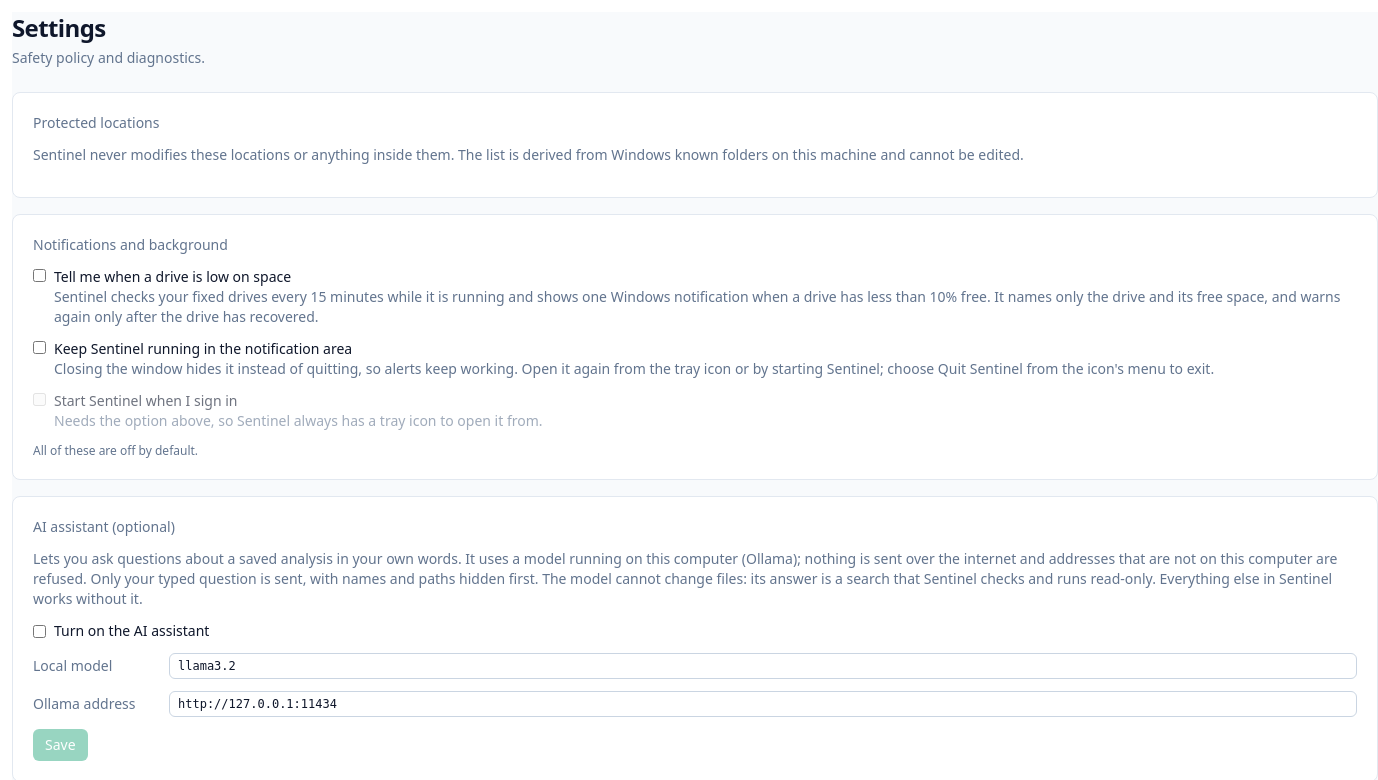
AI settings in Settings › saves a change and shows a refusal for a non-local address
Expected: the button "Save" is disabled, [33,729,88,761]
Click the checkbox labelled "Turn on the AI assistant" at x=40, y=631, box [33,624,46,638]
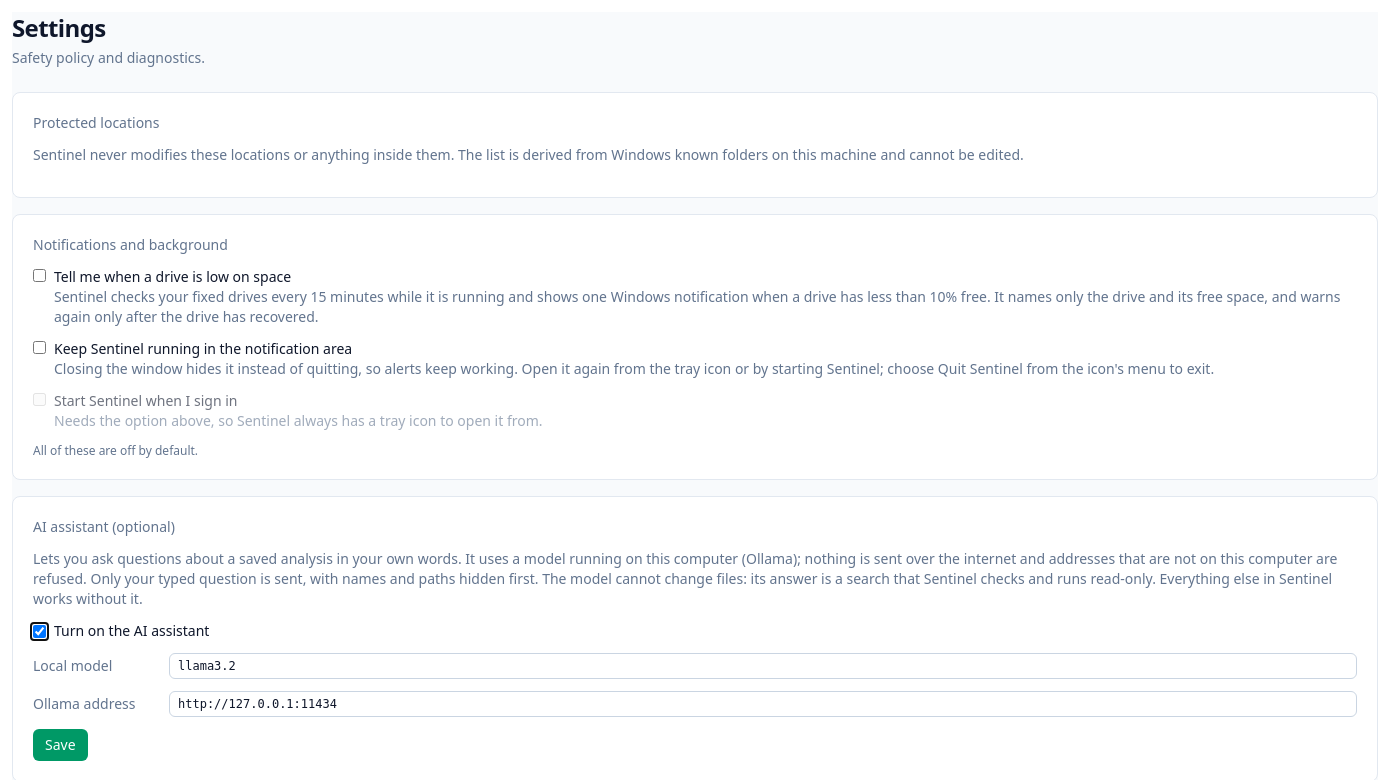
Click the button "Save" at x=60, y=745, box [33,729,88,761]
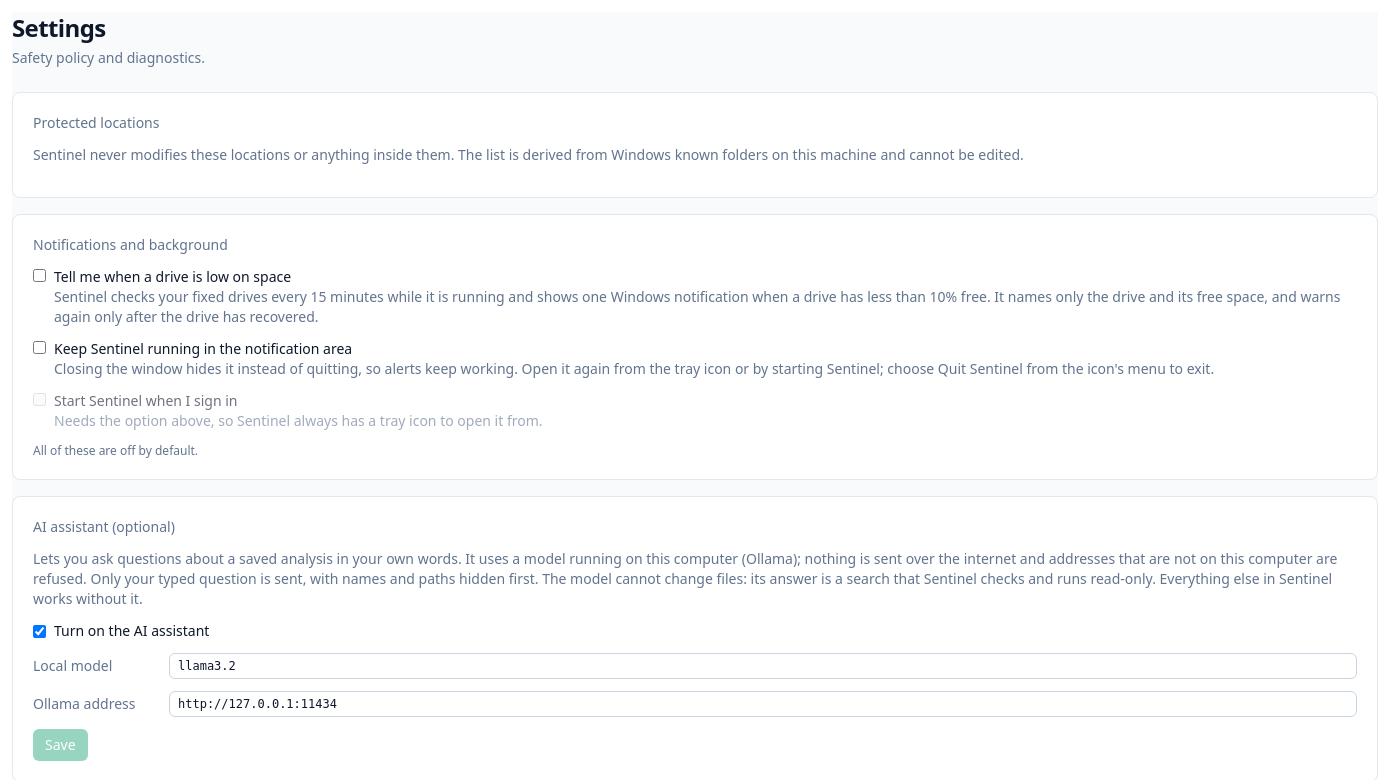
Replace the text in the field labelled "Ollama address" with "https://api.example.com" at x=763, y=704, box [169,691,1357,717]
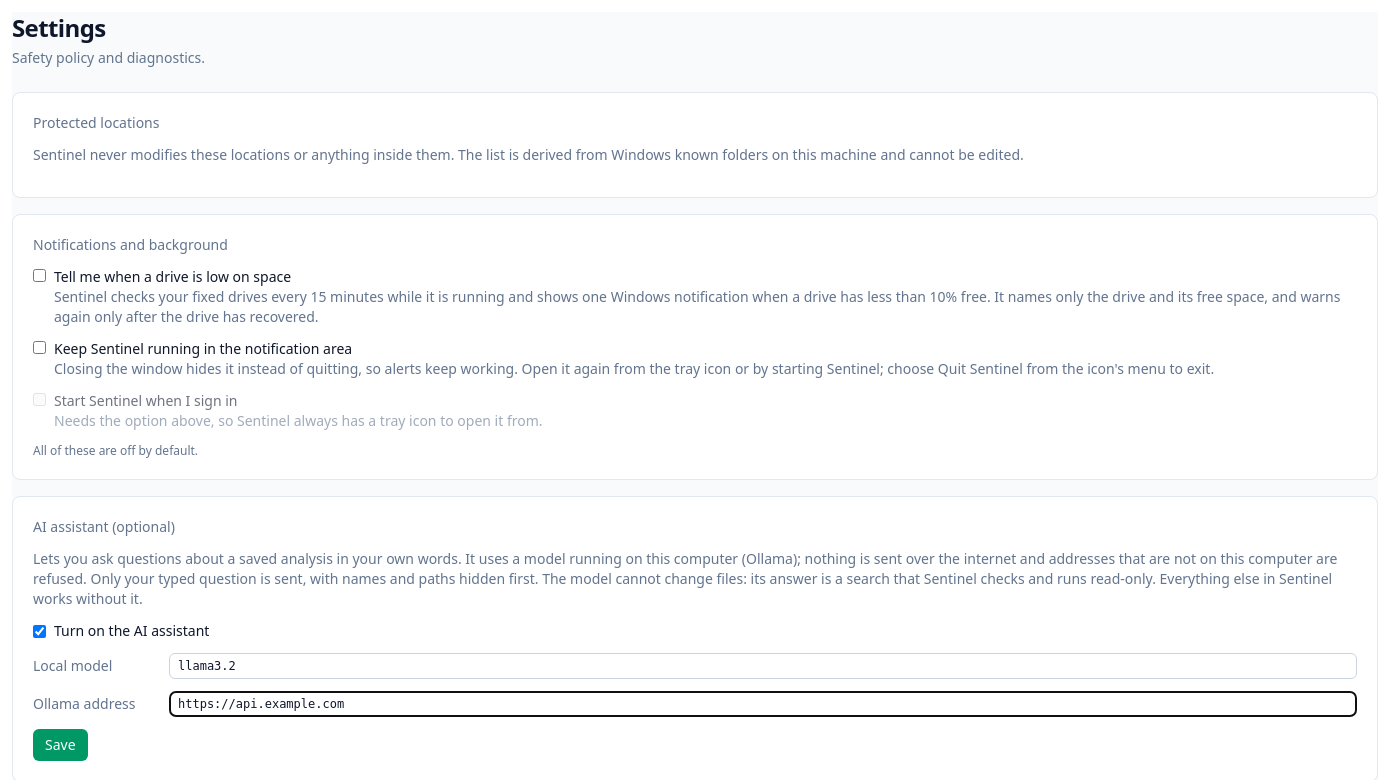
Click the button "Save" at x=60, y=745, box [33,729,88,761]
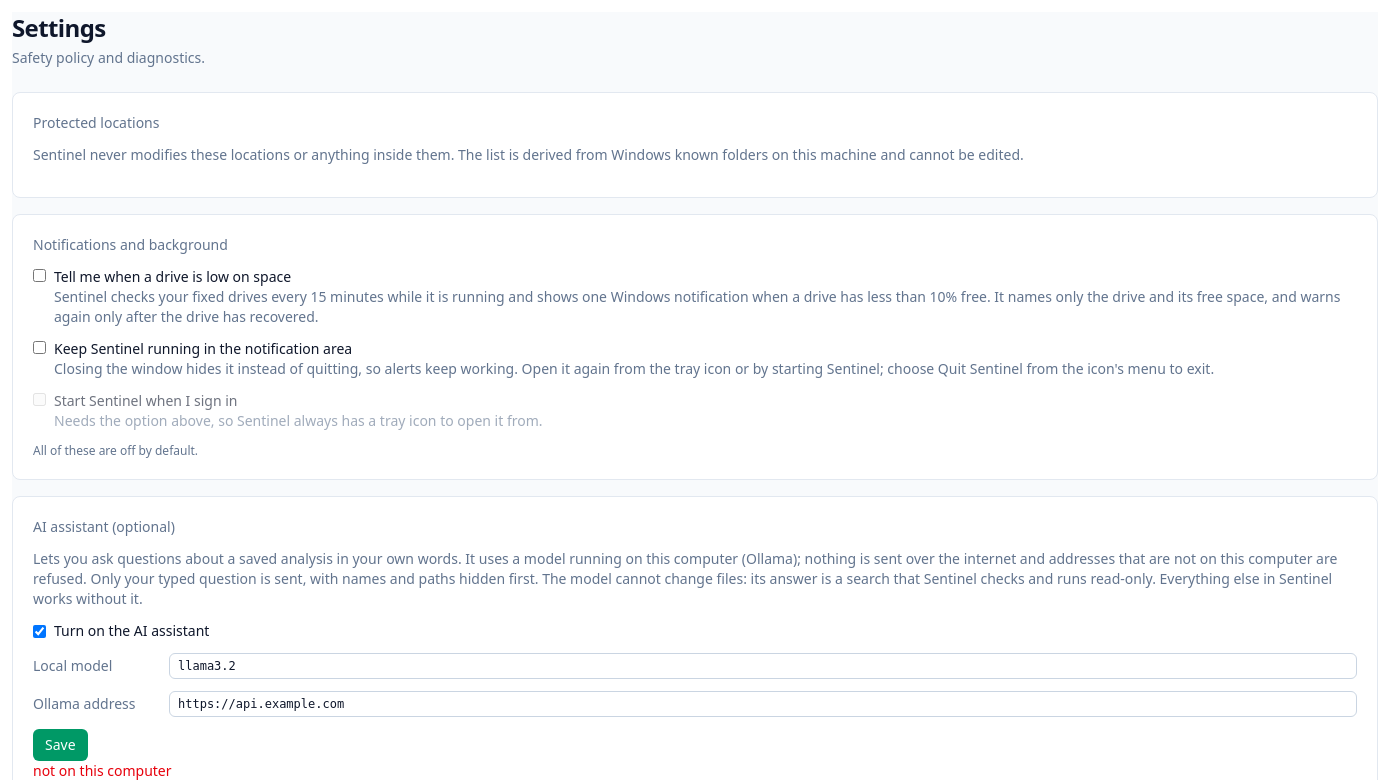
Now the message reads "not on this computer", box [33,761,172,779]
